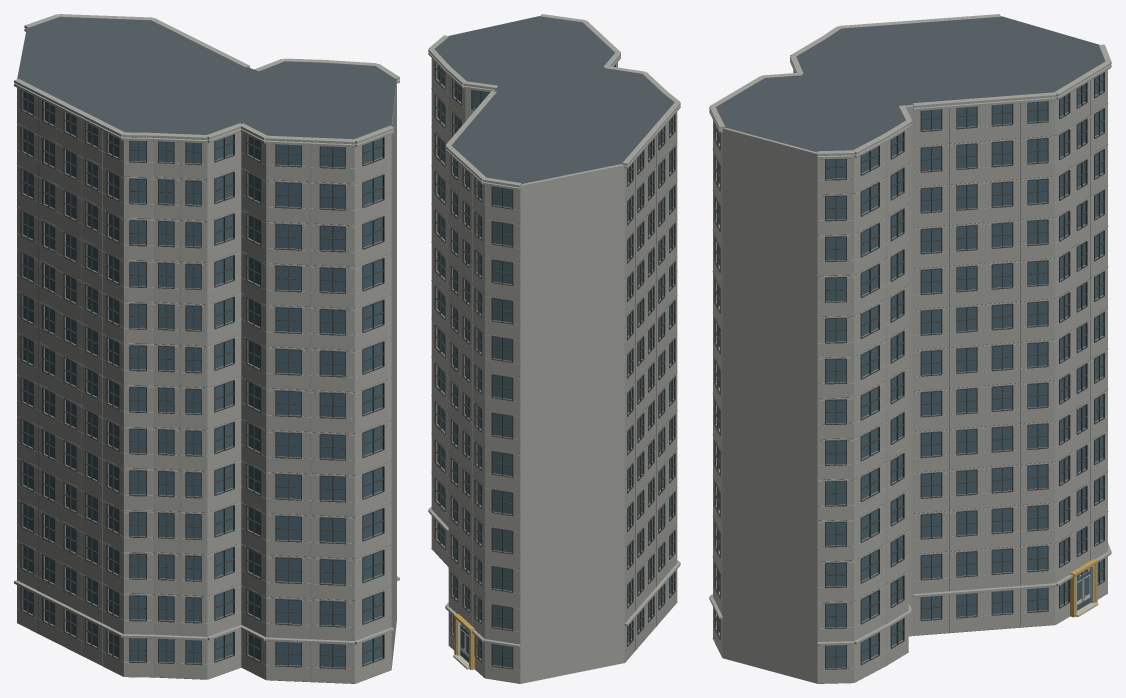
Rendered from pel-exterior-572f3877d412.glb.
3 views of the same model, side by side, from view 1: azimuth 30°, elevation 25°; view 2: azimuth 150°, elevation 25°; view 3: azimuth 270°, elevation 25° (orthographic). The views are drawn at different scales.
Visible parts, largest first — view 1: PEL.001; view 2: PEL.001; view 3: PEL.001.
Part boxes in pixels (x1,y1,x2,y2): PEL.001: [14, 14, 399, 683]; PEL.001: [428, 14, 680, 683]; PEL.001: [709, 14, 1111, 683].
Bounding box in the file's own units: 24.89 × 44.15 × 30.27.
